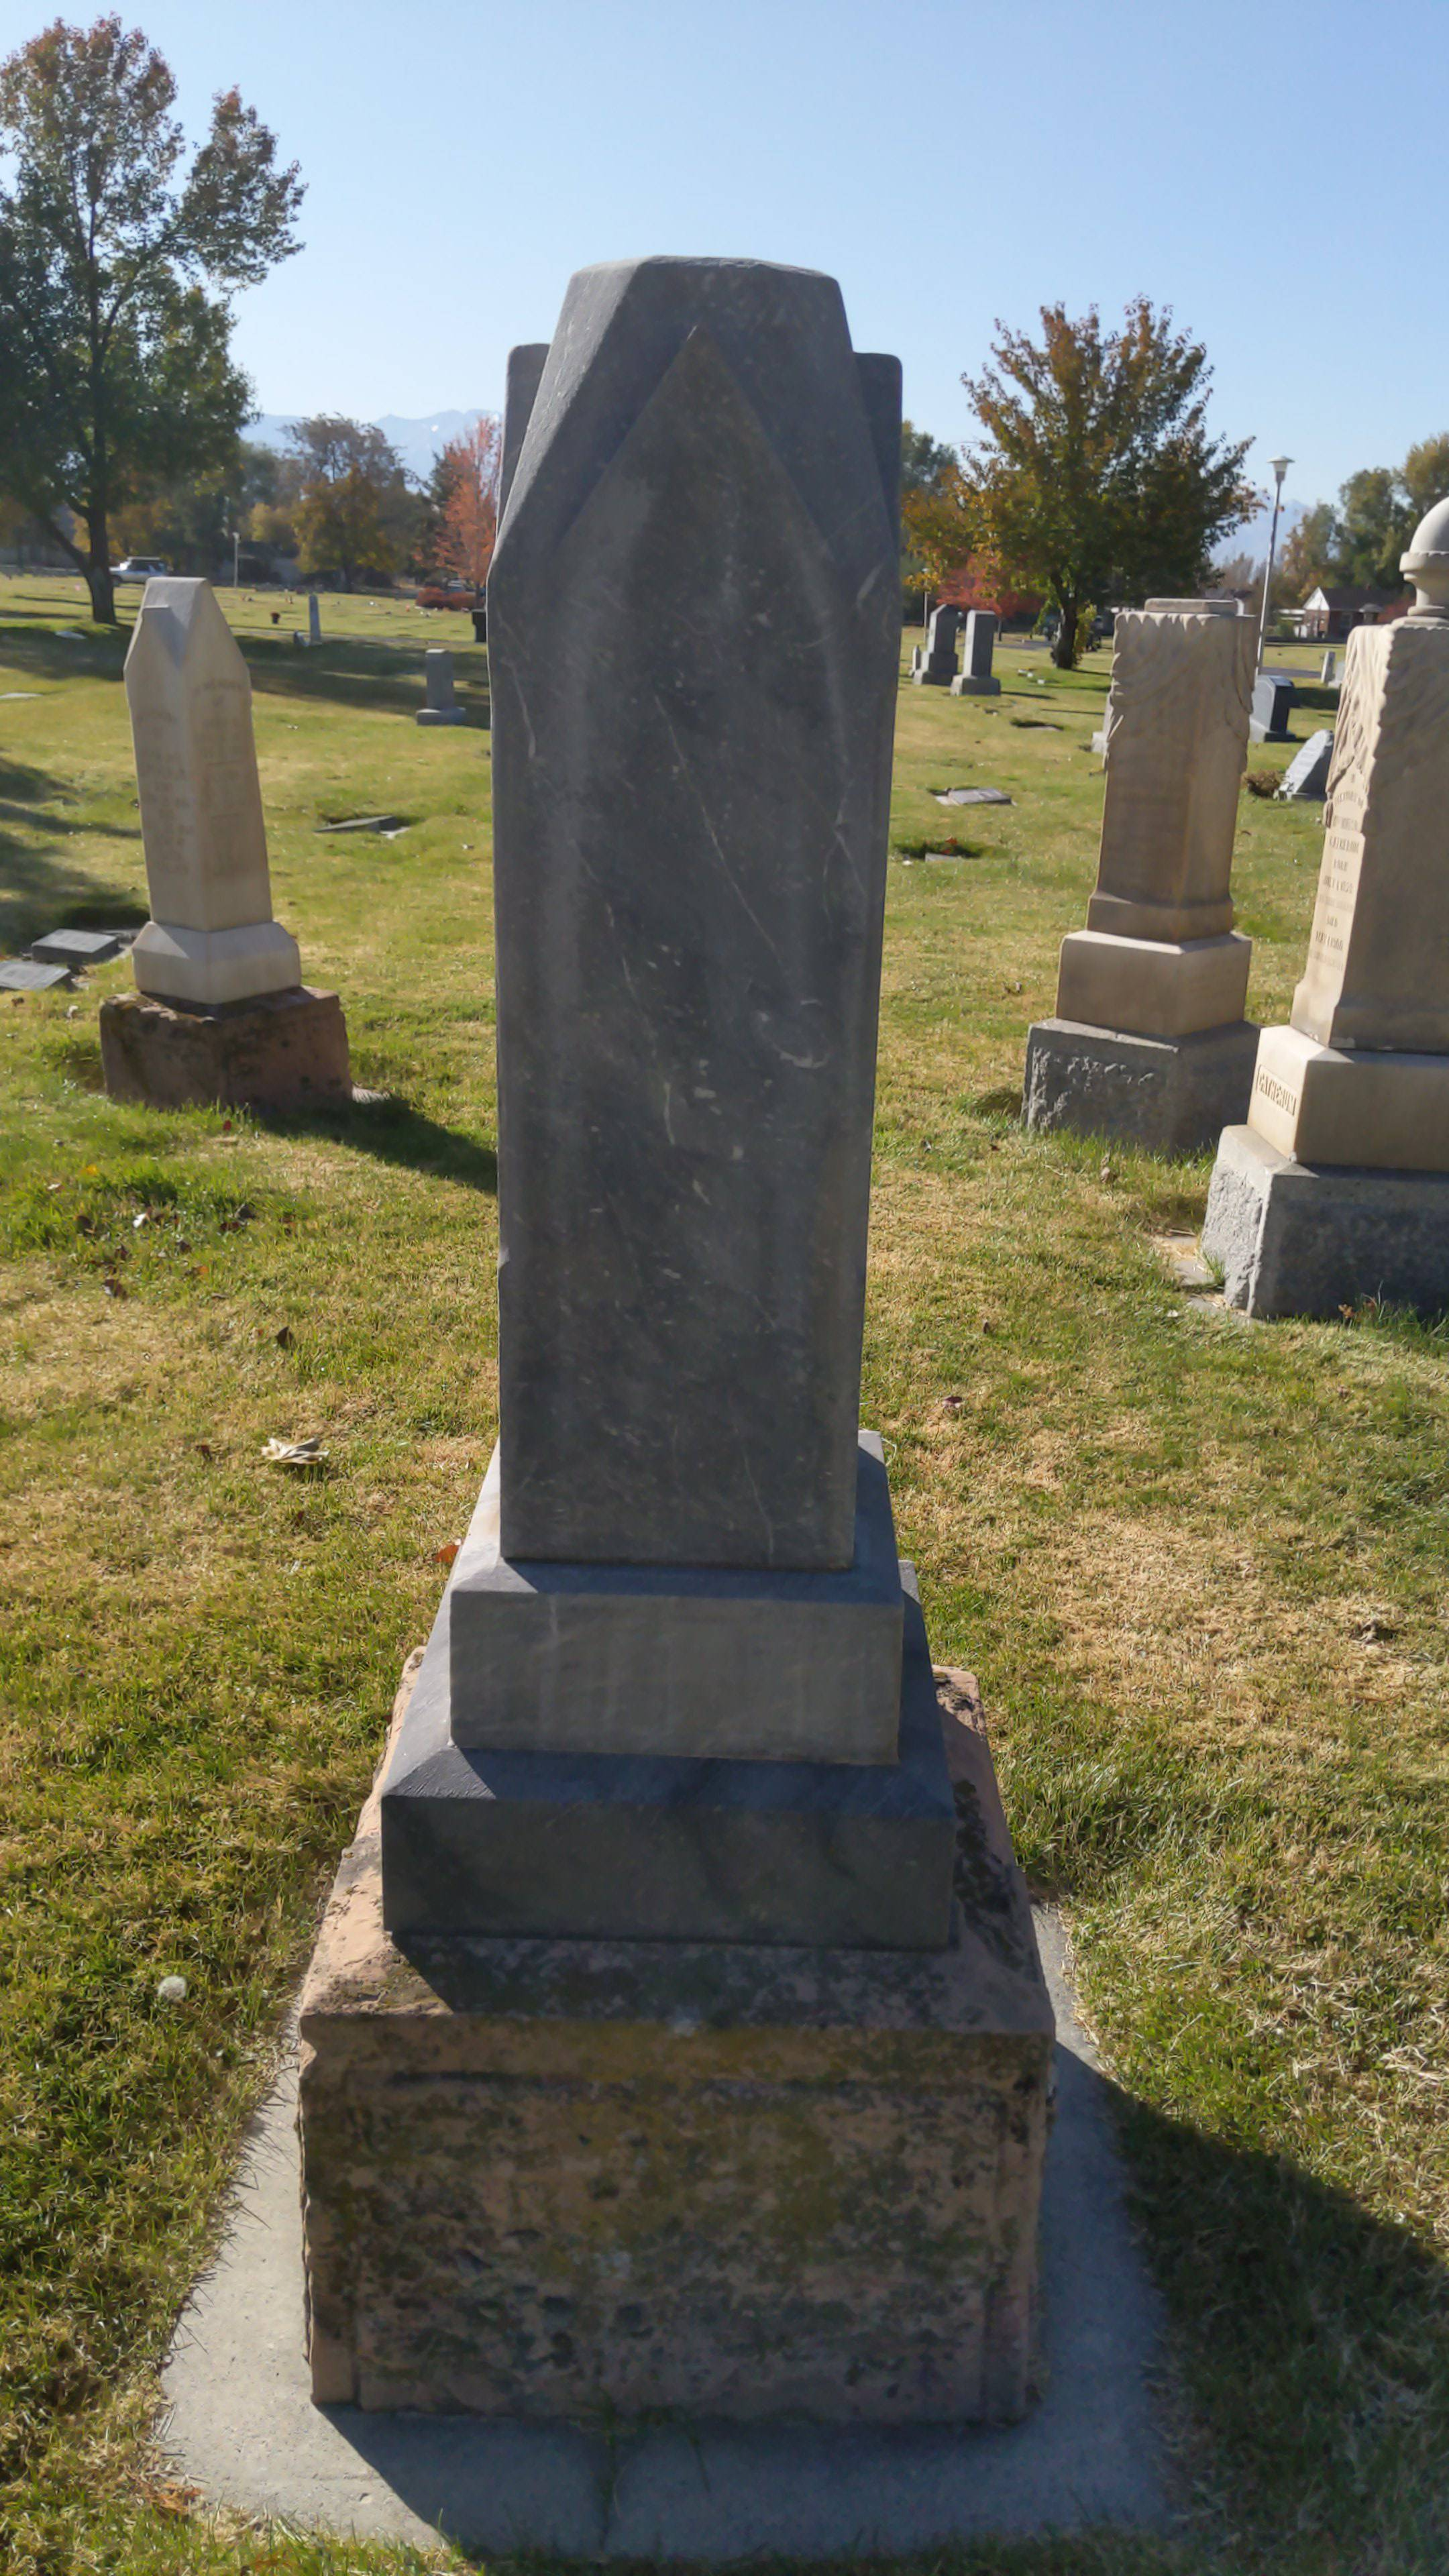obelisk: (382, 264, 961, 1937)
